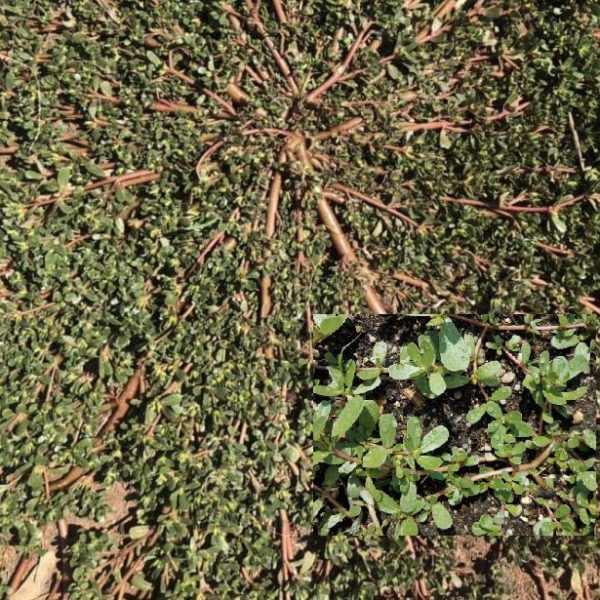oxalis: (342, 368, 600, 535)
